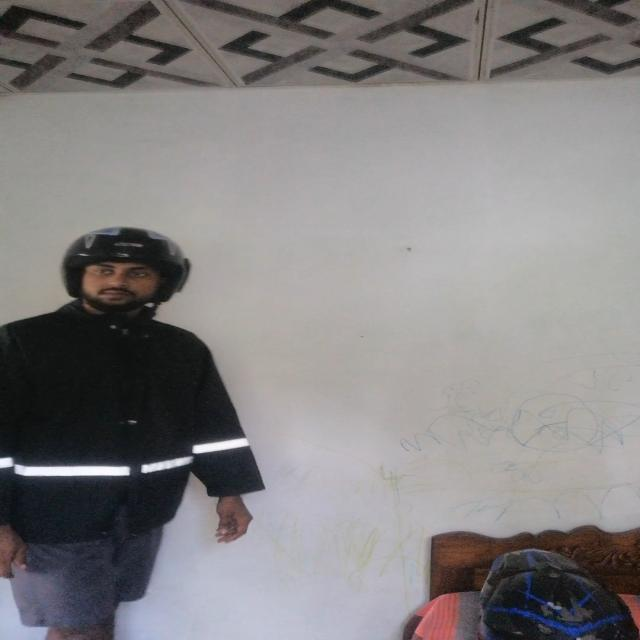Helmet_Wearer: (40, 224, 201, 323)
Jacket_Wearer: (0, 307, 261, 551)
Person: (0, 212, 265, 640)
